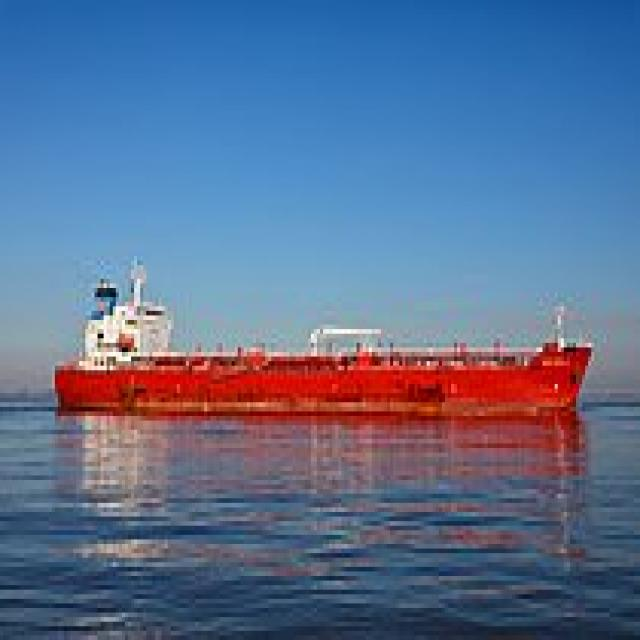Tanker: (52, 251, 588, 416)
